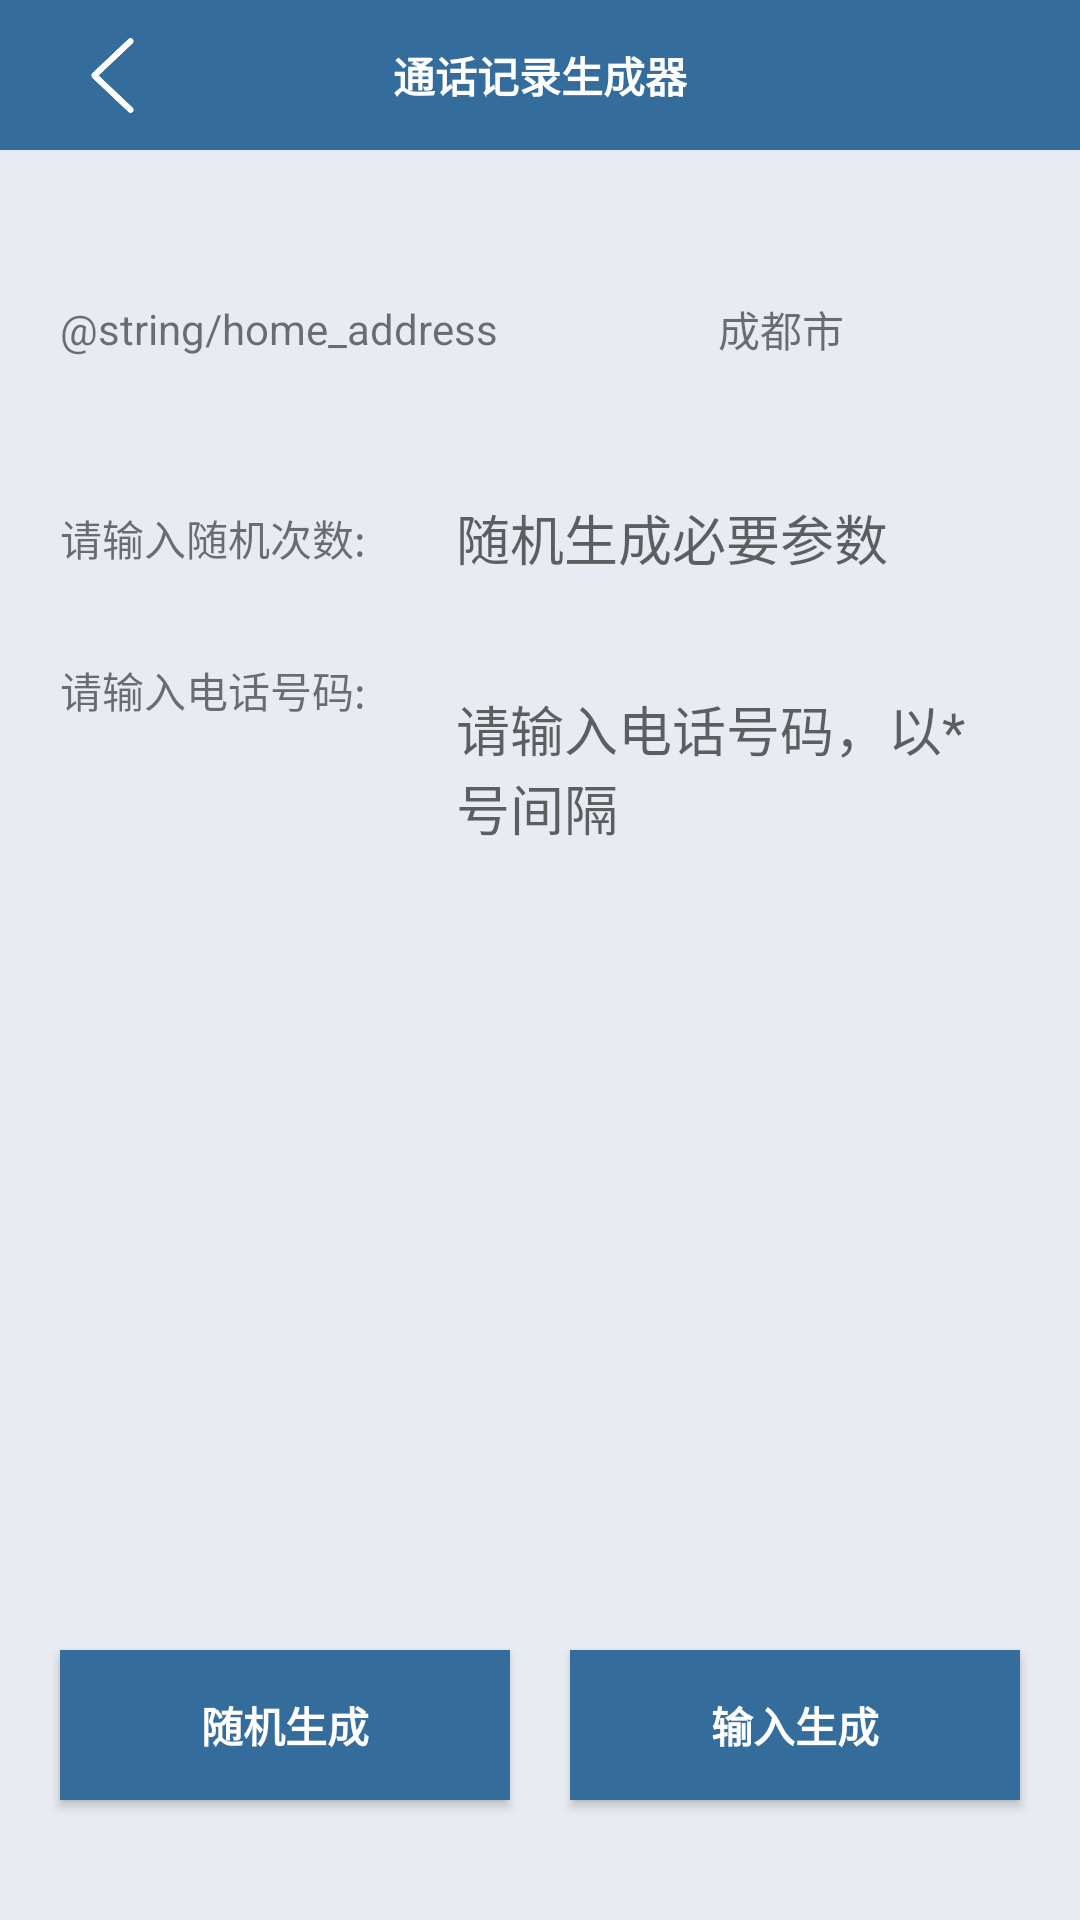

Icons on this 1080w x 1920h Android screen, each with its box as [x1,y1,x2,y2]:
back: [91,38,134,113]
